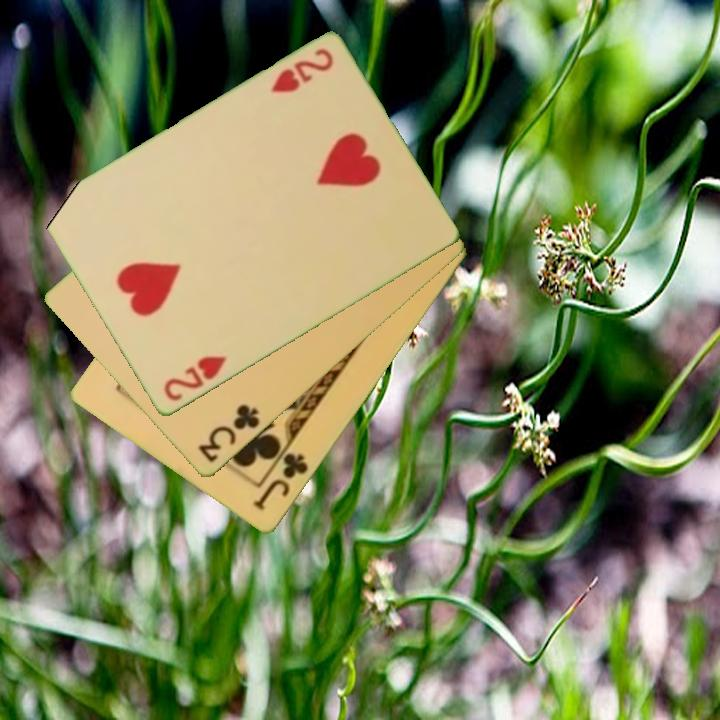2h: (160, 352, 229, 405), (267, 45, 337, 97)
3c: (194, 401, 263, 466)
Jc: (249, 449, 312, 514)
